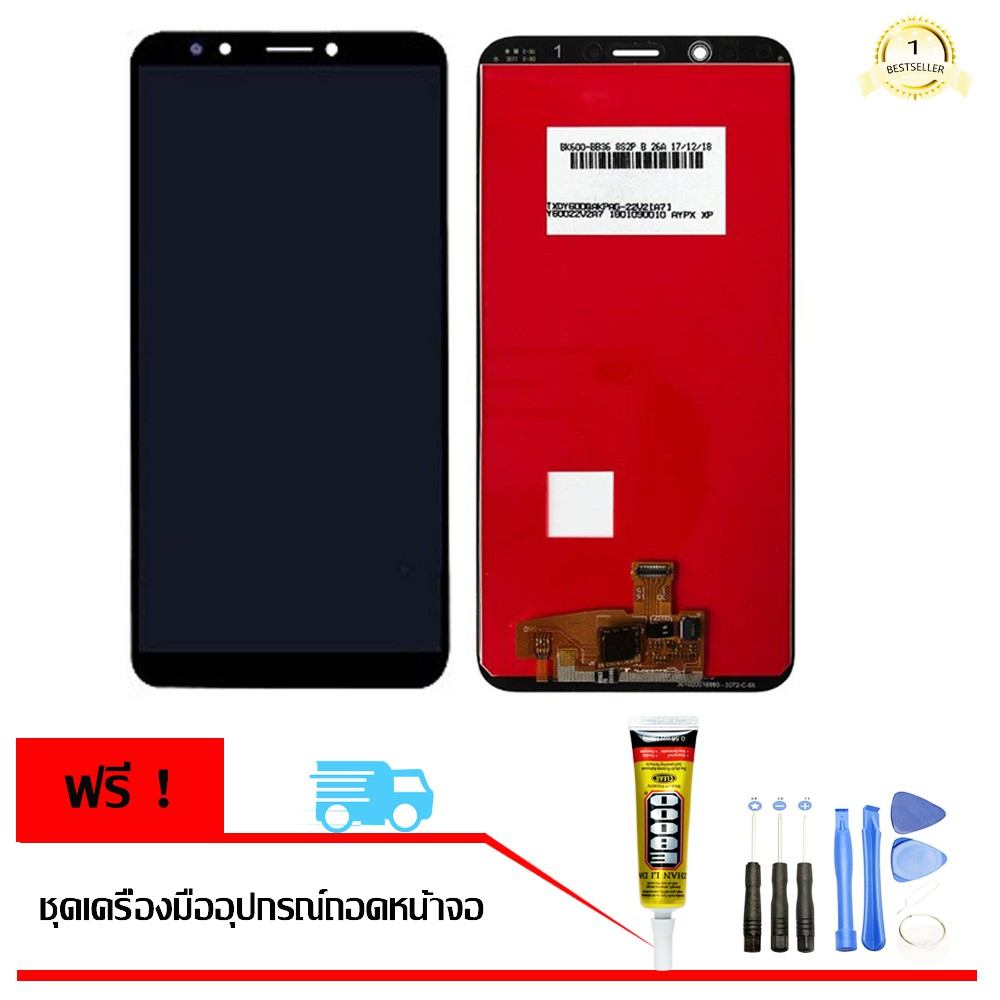phone: (467, 24, 806, 696), (123, 26, 456, 695)
